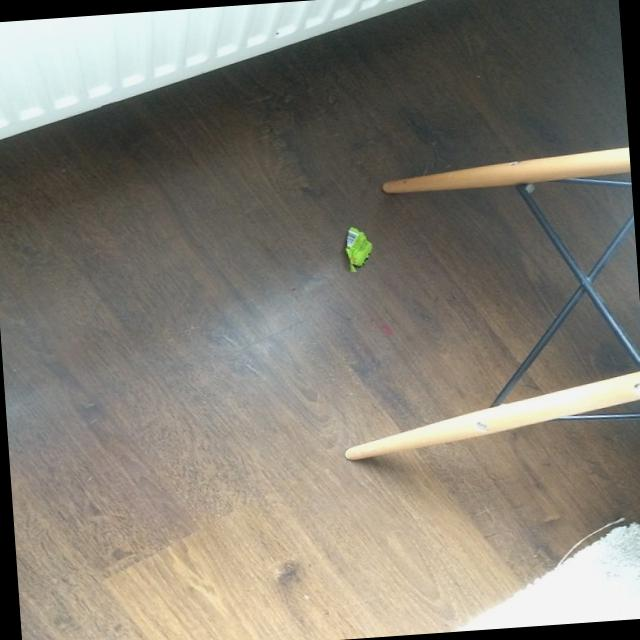Trash: (342, 224, 375, 274)
